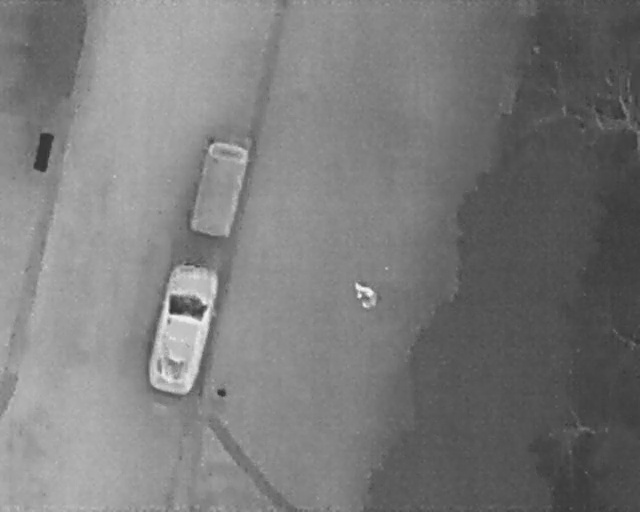Car: (140, 256, 225, 401), (182, 132, 255, 246)
Person: (352, 281, 378, 309)
